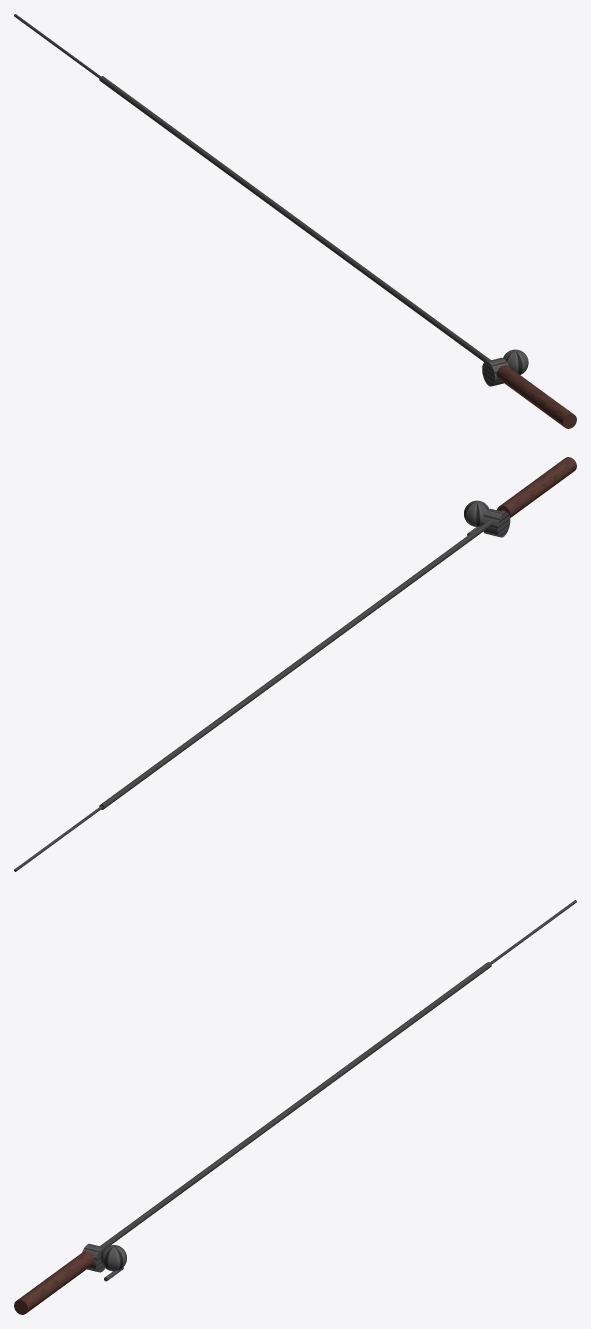
Rendered from item-basic-fishing-rod.glb.
3 renders of one model, top to bottom at view 1: azimuth 30°, elevation 25°; view 2: azimuth 150°, elevation 25°; view 3: azimuth 330°, elevation 25°, orthographic.
Size of the model in its own units: 0.06 by 0.044 by 1.51.
3 materials, 3 textured.
